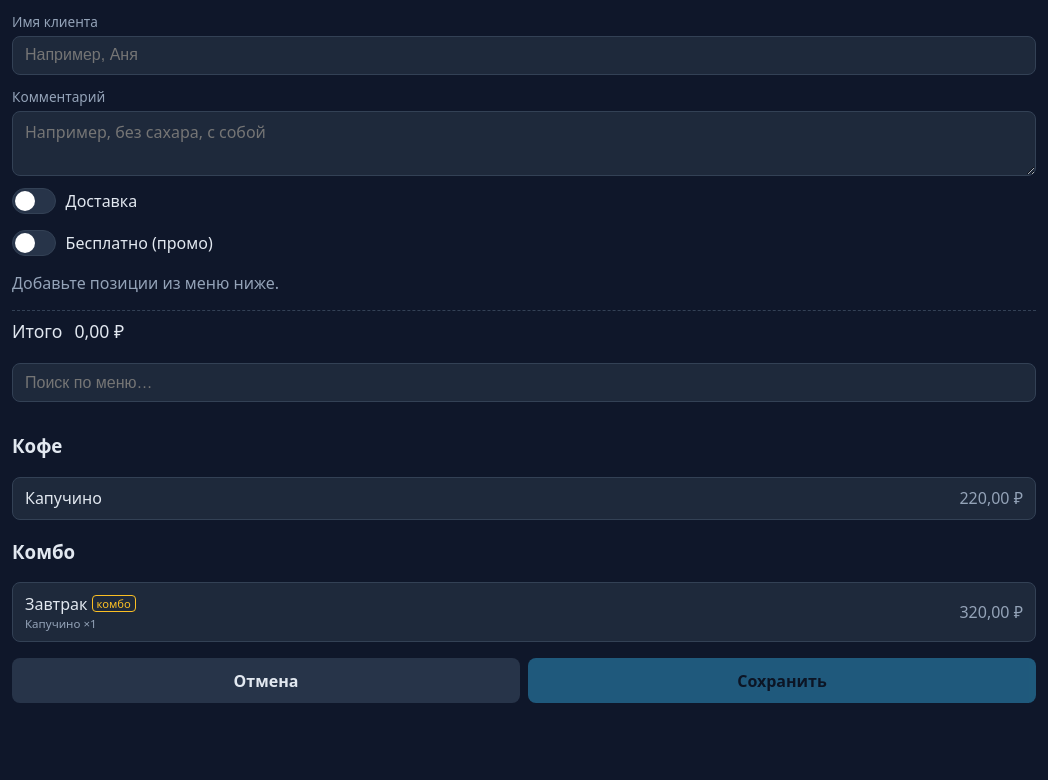
Test: OrderForm › accumulates quantity and reflects it in the cart
This screenshot has width=1048, height=780.
What coordinates should you click on to do the following:
click the button with class "menu-item" showing "Капучино 220,00 ₽"
I would click on:
 (63, 498)
Its box is left=12, top=477, right=1036, bottom=520.
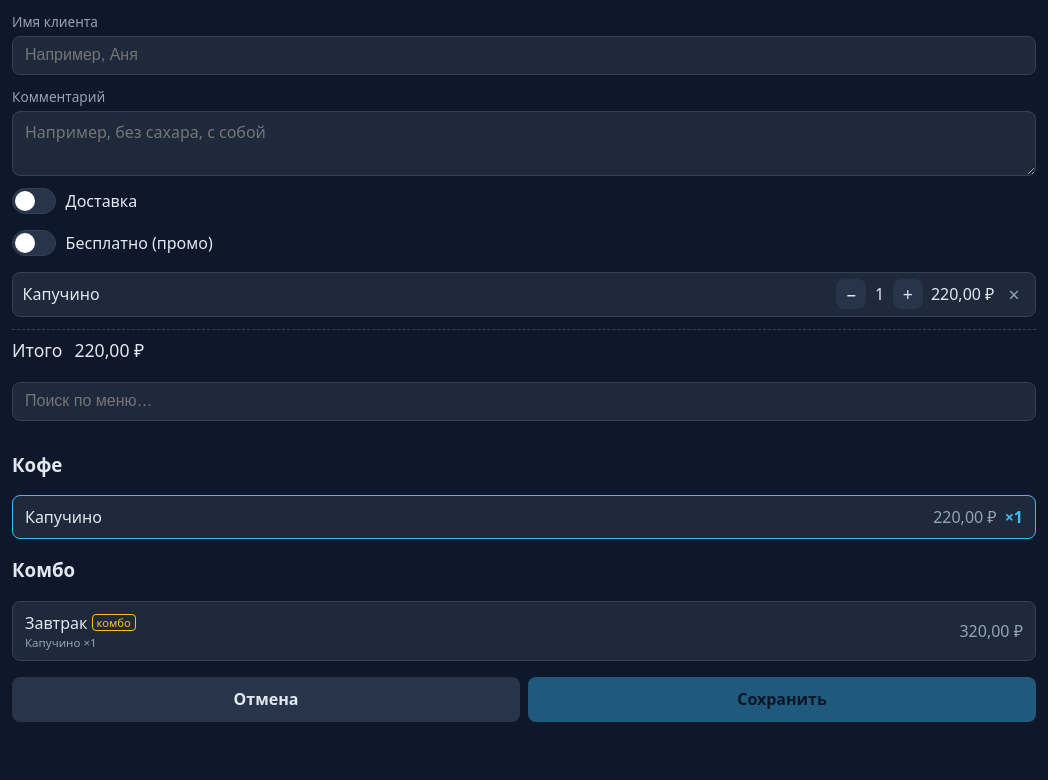
What coordinates should you click on to do the following:
click the button with class "menu-item" showing "Капучино 220,00 ₽ ×1"
I would click on:
 (63, 517)
Its box is left=12, top=495, right=1036, bottom=539.
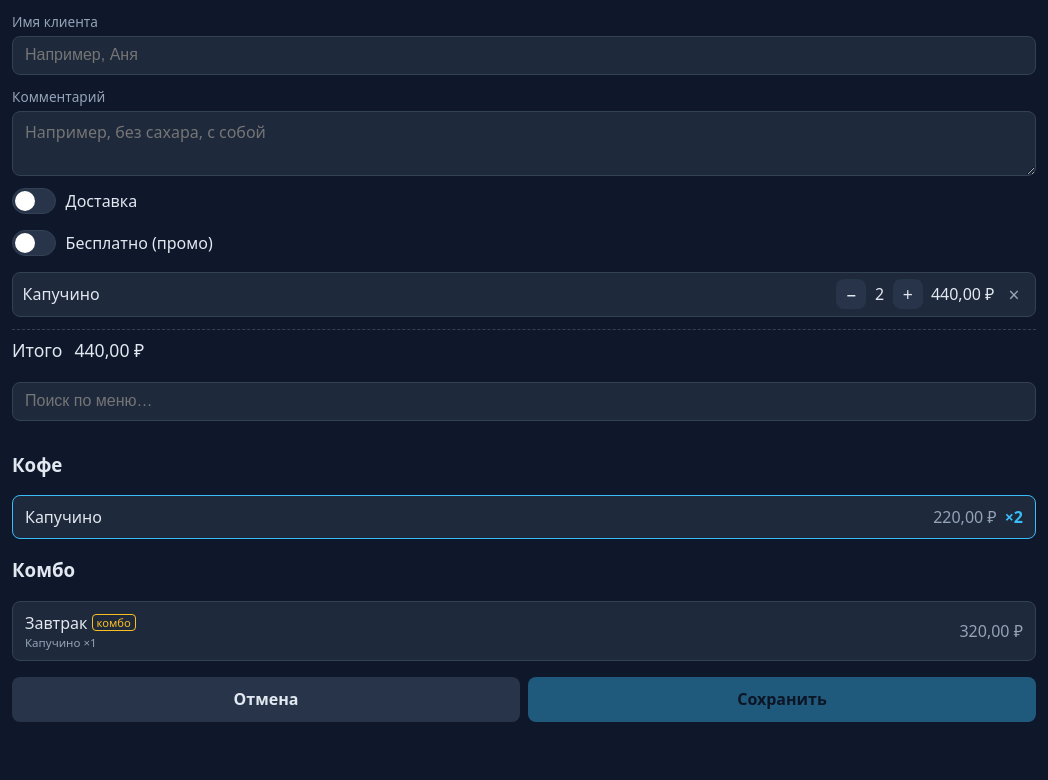
Check: the text "2" is shown, box left=875, top=283, right=884, bottom=305
